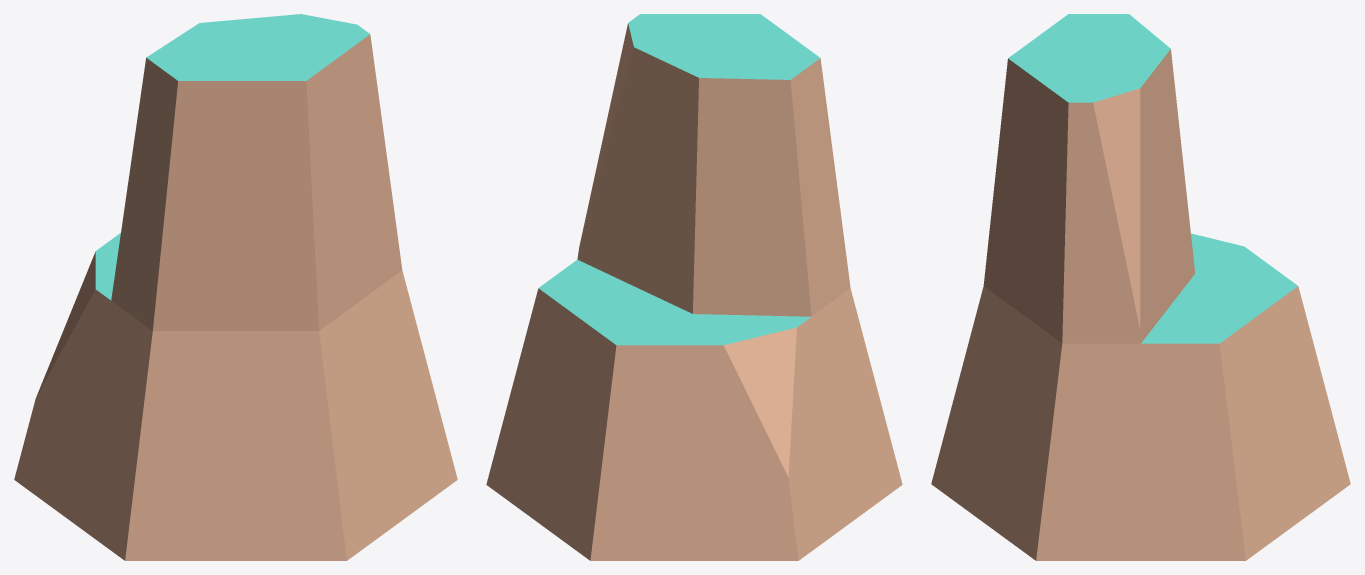
File: rock_tallF.glb
3 renders of one model, left to right at view 1: azimuth 30°, elevation 25°; view 2: azimuth 150°, elevation 25°; view 3: azimuth 270°, elevation 25°, orthographic. The views are drawn at different scales.
Parts seen in each view (by area): view 1: rock_tallF; view 2: rock_tallF; view 3: rock_tallF.
Part boxes in pixels (x1,y1,x2,y2): rock_tallF: (14, 14, 457, 560); rock_tallF: (486, 14, 902, 560); rock_tallF: (931, 14, 1350, 560).
Bounding box in the file's own units: 0.4437 × 0.5737 × 0.5123.
1 material, 1 textured.
